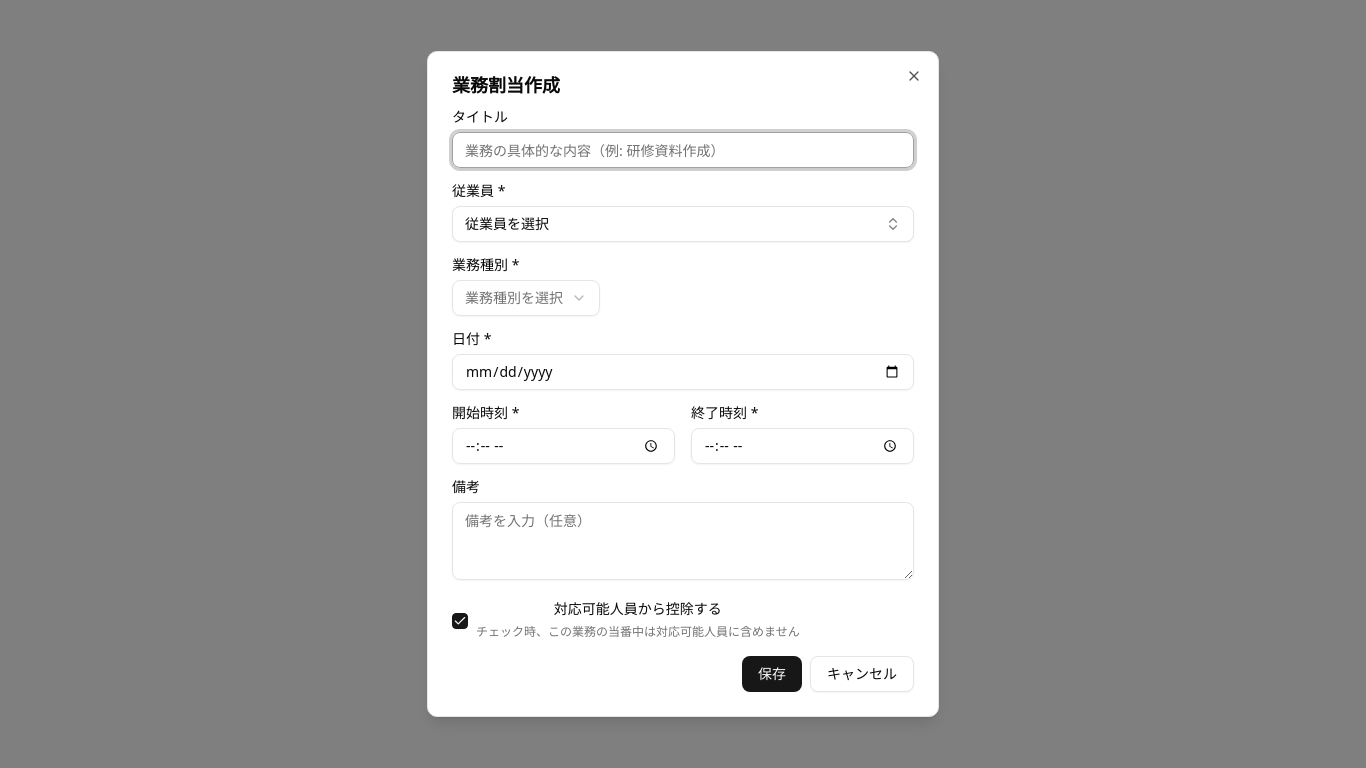
Scenario: DutyAssignmentForm - 業務種別選択時のフィールド保護 › 【リグレッション】開始/終了時刻入力済み → 業務種別選択で時刻保持
This screenshot has width=1366, height=768.
Type "10:30" into the time field labelled "開始時刻 *". click: (564, 446)
box: [452,428,675,464]
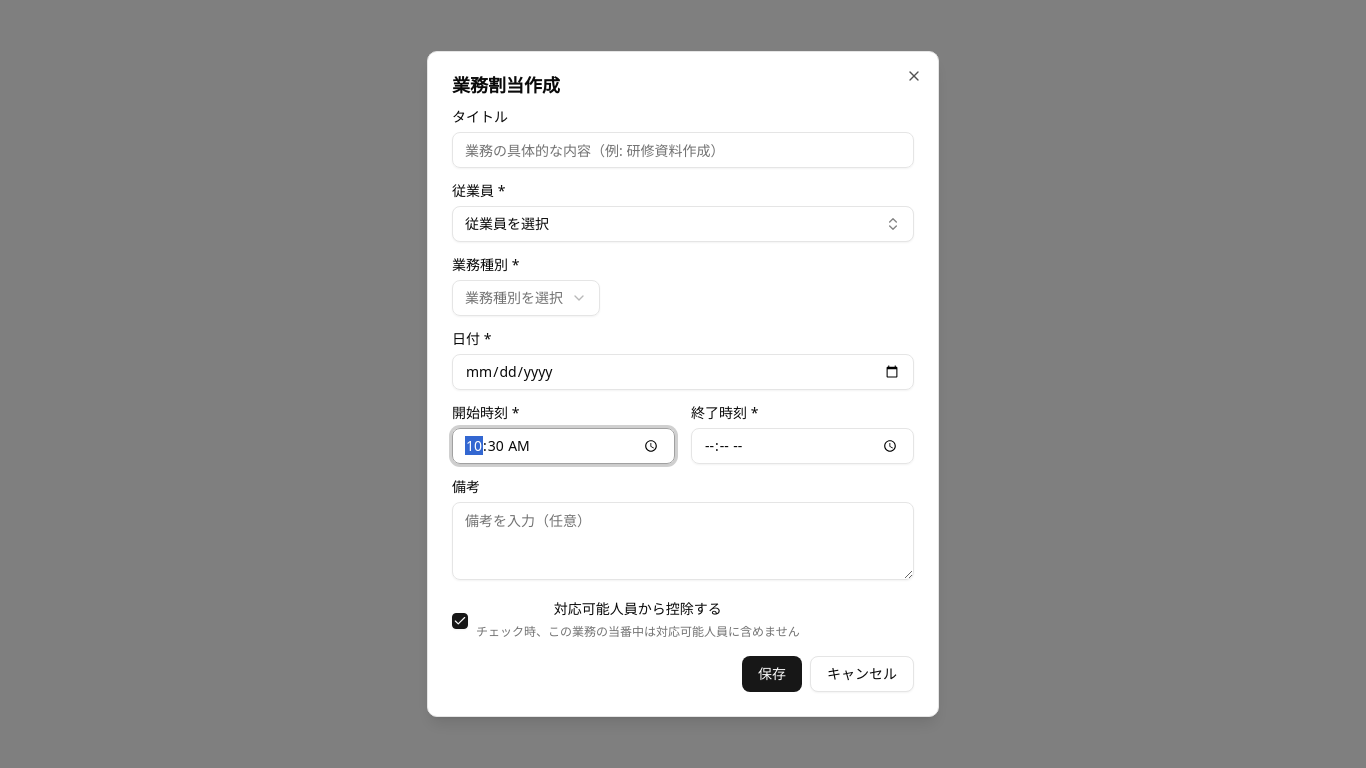
Type "18:30" into the time field labelled "終了時刻 *". click: (802, 446)
box: [691,428,914,464]
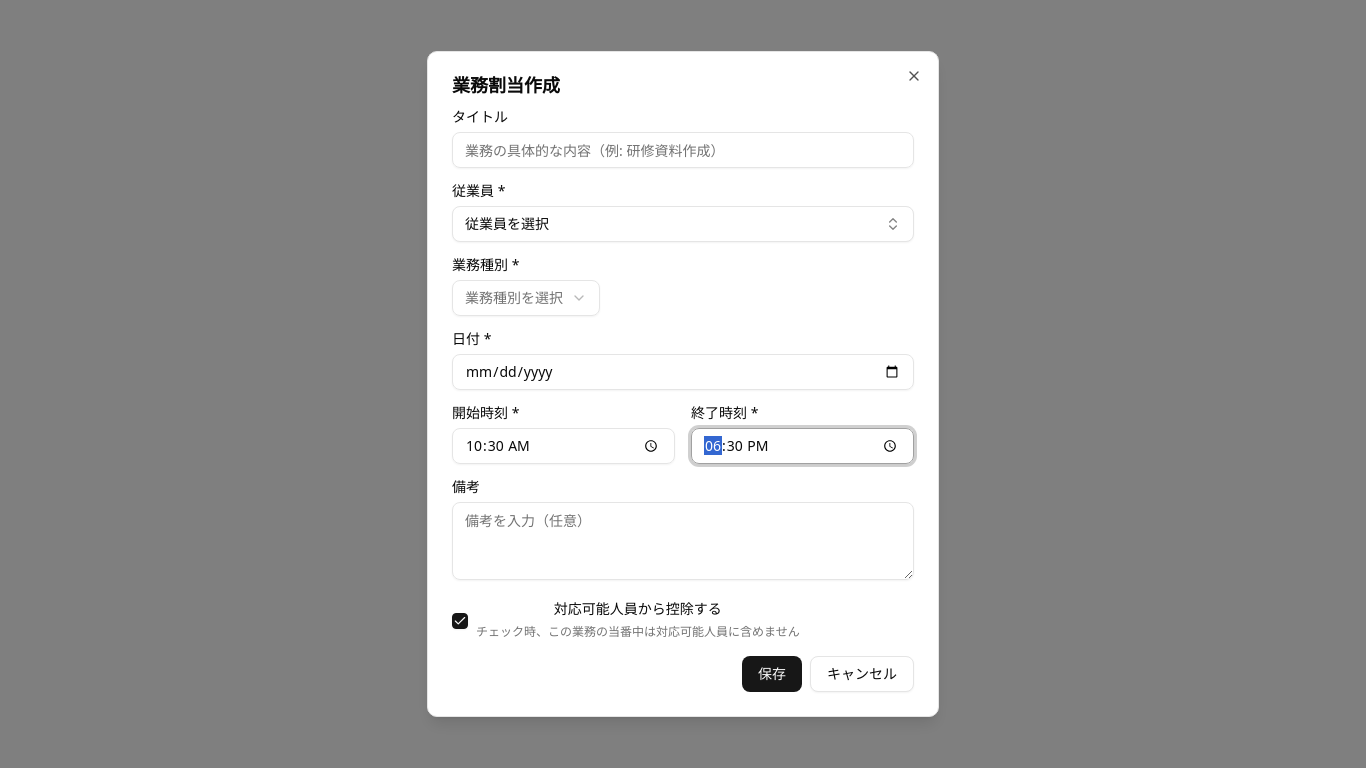
Click the dropdown labelled "業務種別を選択". click: (526, 298)
box: [452,280,600,316]
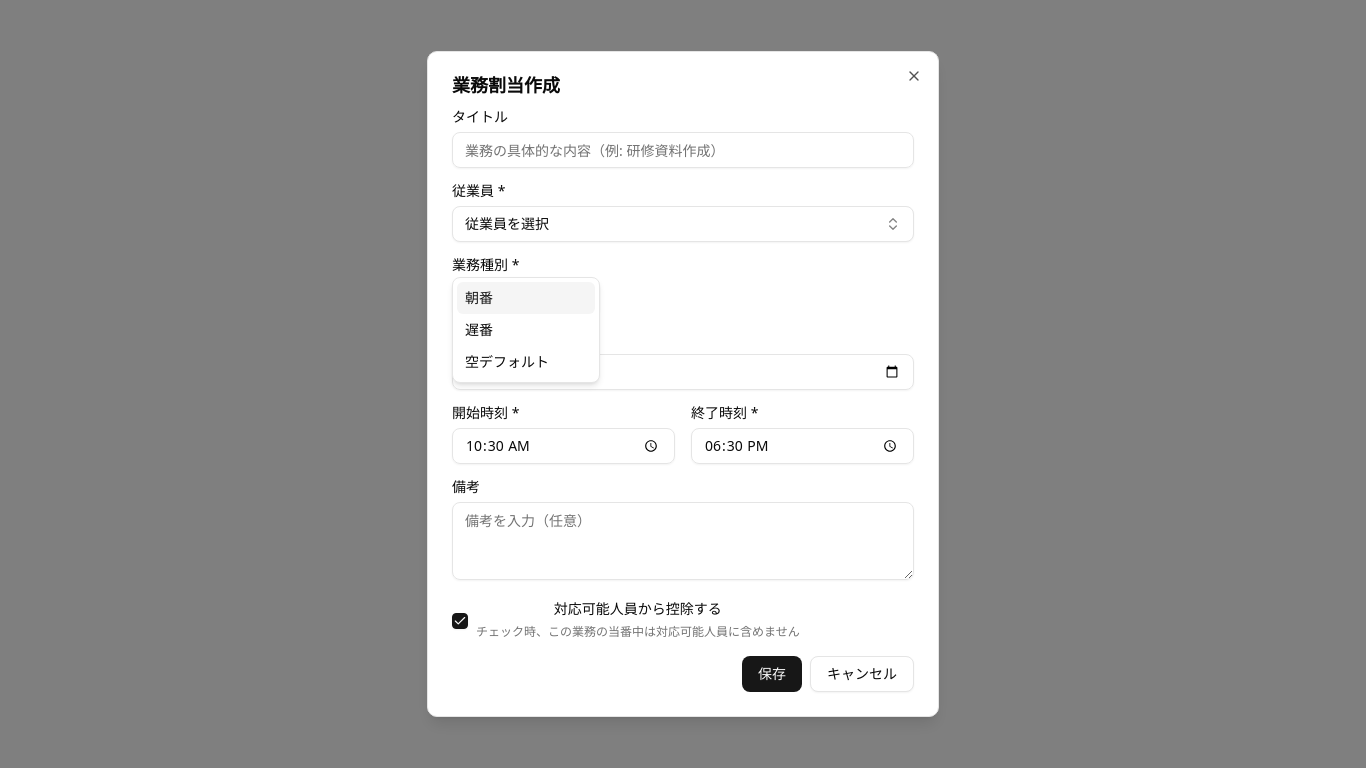
Click the option "朝番". click: (526, 298)
box: [457,282,595,314]
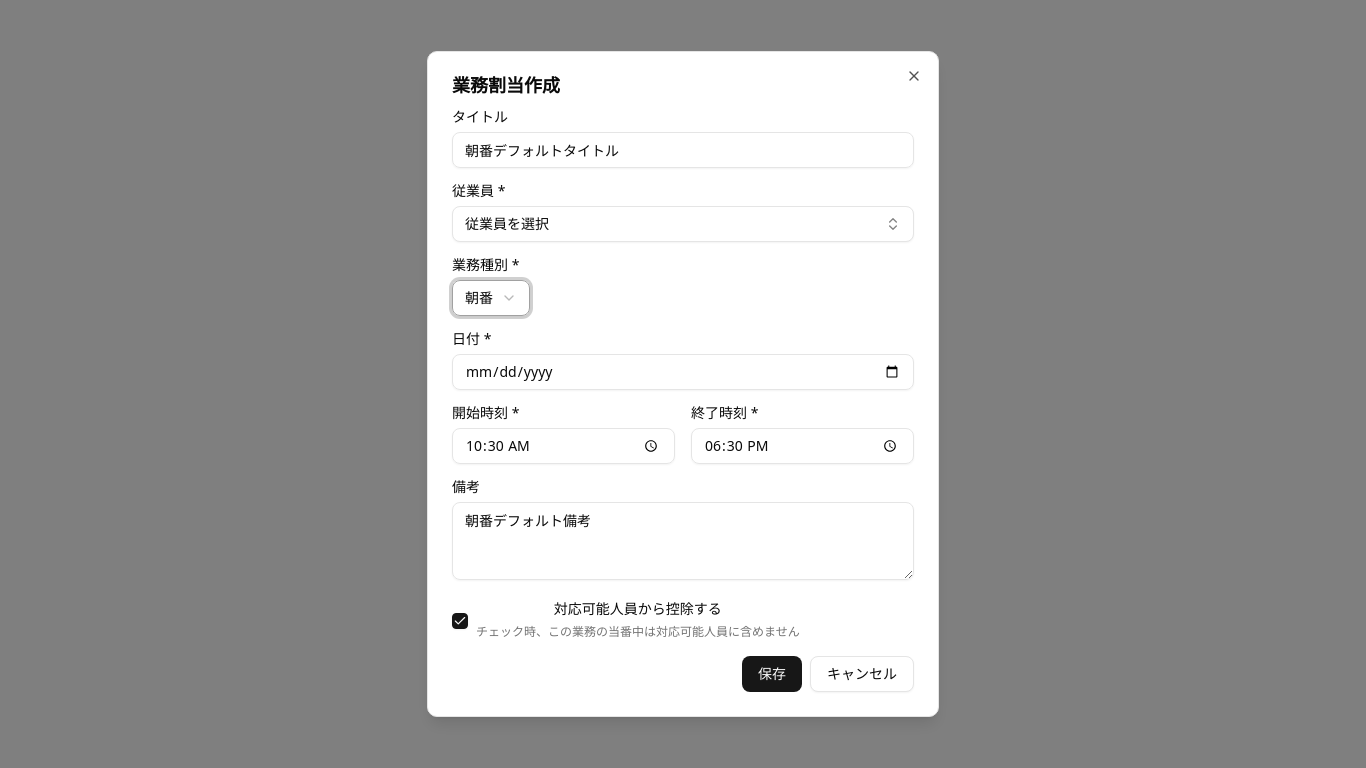
Now the field labelled "タイトル" holds "朝番デフォルトタイトル", box [452,132,914,168]
